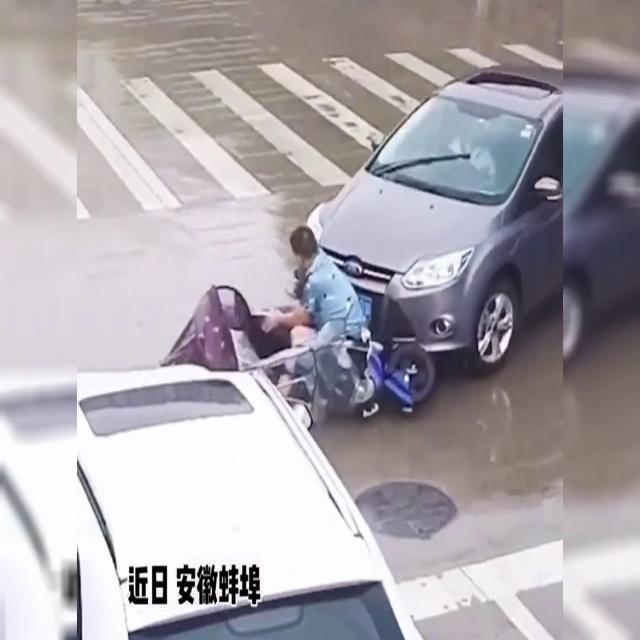multiple_accident: (248, 28, 567, 413), (200, 222, 472, 448)
